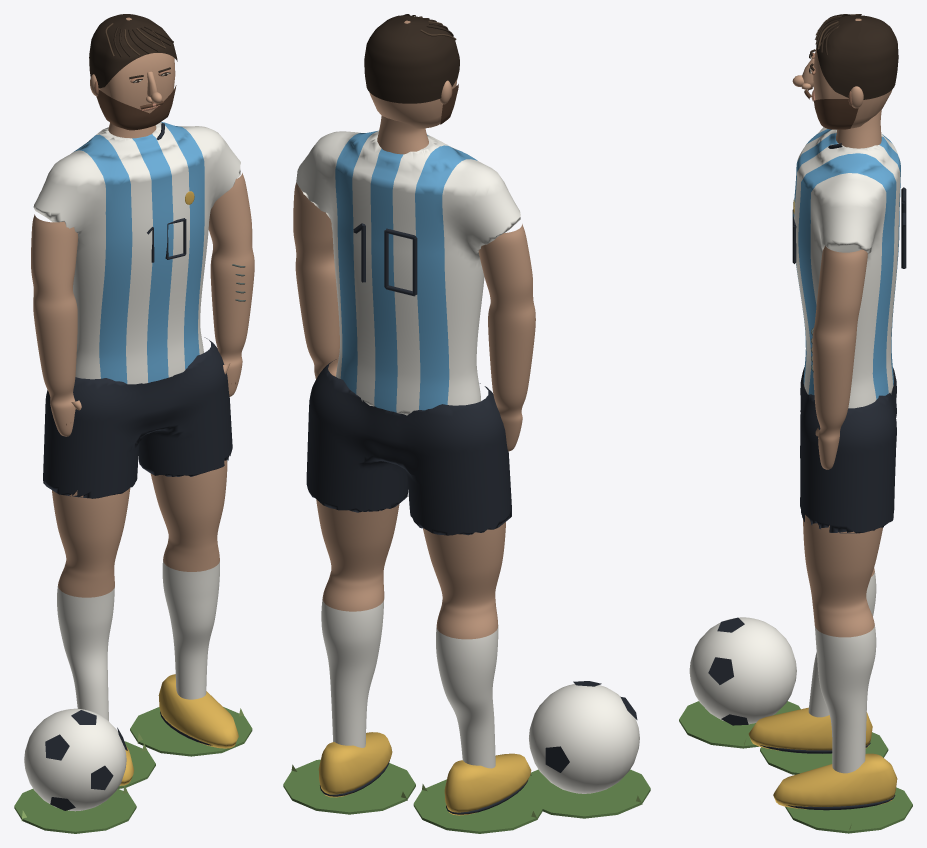
Rendered from messi.glb.
The picture shows the model from 3 angles, left to right: view 1: azimuth 30°, elevation 25°; view 2: azimuth 150°, elevation 25°; view 3: azimuth 270°, elevation 25°; orthographic projection. The views are drawn at different scales.
Parts seen in each view (by area): view 1: jersey_white, shorts_ink, jersey_sky, arms_skin, legs_skin, legs_white, football_white, turf_grass, boots_gold, hair_cap_hair, head_skin, beard_beard (+2 smaller); view 2: jersey_white, shorts_ink, jersey_sky, arms_skin, legs_skin, legs_white, turf_grass, football_white, hair_cap_hair, boots_gold, head_skin, neck_skin (+2 smaller); view 3: jersey_white, shorts_ink, football_white, arms_skin, boots_gold, jersey_sky, legs_white, legs_skin, turf_grass, hair_cap_hair, head_skin, beard_beard (+4 smaller).
Part boxes in pixels (<box>): jersey_white: <box>33,122,240,384</box>; shorts_ink: <box>43,337,232,498</box>; jersey_sky: <box>74,121,204,383</box>; arms_skin: <box>31,173,254,436</box>; legs_skin: <box>52,460,227,597</box>; legs_white: <box>57,559,219,720</box>; football_white: <box>24,708,126,811</box>; turf_grass: <box>14,707,252,833</box>; boots_gold: <box>119,674,238,785</box>; hair_cap_hair: <box>89,14,177,88</box>; head_skin: <box>100,17,175,113</box>; beard_beard: <box>96,85,176,130</box>; jersey_white: <box>296,131,520,415</box>; shorts_ink: <box>306,359,511,535</box>; jersey_sky: <box>335,130,477,412</box>; arms_skin: <box>293,183,535,451</box>; legs_skin: <box>316,499,505,639</box>; legs_white: <box>321,598,498,768</box>; turf_grass: <box>283,759,650,833</box>; football_white: <box>529,684,639,793</box>; hair_cap_hair: <box>364,15,459,103</box>; boots_gold: <box>318,732,531,815</box>; head_skin: <box>369,20,457,128</box>; neck_skin: <box>377,115,428,154</box>; jersey_white: <box>794,127,900,408</box>; shorts_ink: <box>800,367,896,533</box>; football_white: <box>689,617,796,724</box>; arms_skin: <box>812,245,867,469</box>; boots_gold: <box>748,707,897,809</box>; jersey_sky: <box>793,129,900,399</box>; legs_white: <box>808,571,876,773</box>; legs_skin: <box>803,515,882,637</box>; turf_grass: <box>679,701,912,833</box>; hair_cap_hair: <box>816,15,898,99</box>; head_skin: <box>813,18,891,128</box>; beard_beard: <box>814,99,858,129</box>.
Bounding box in the file's own units: 0.6747 × 1.7 × 0.4756.
